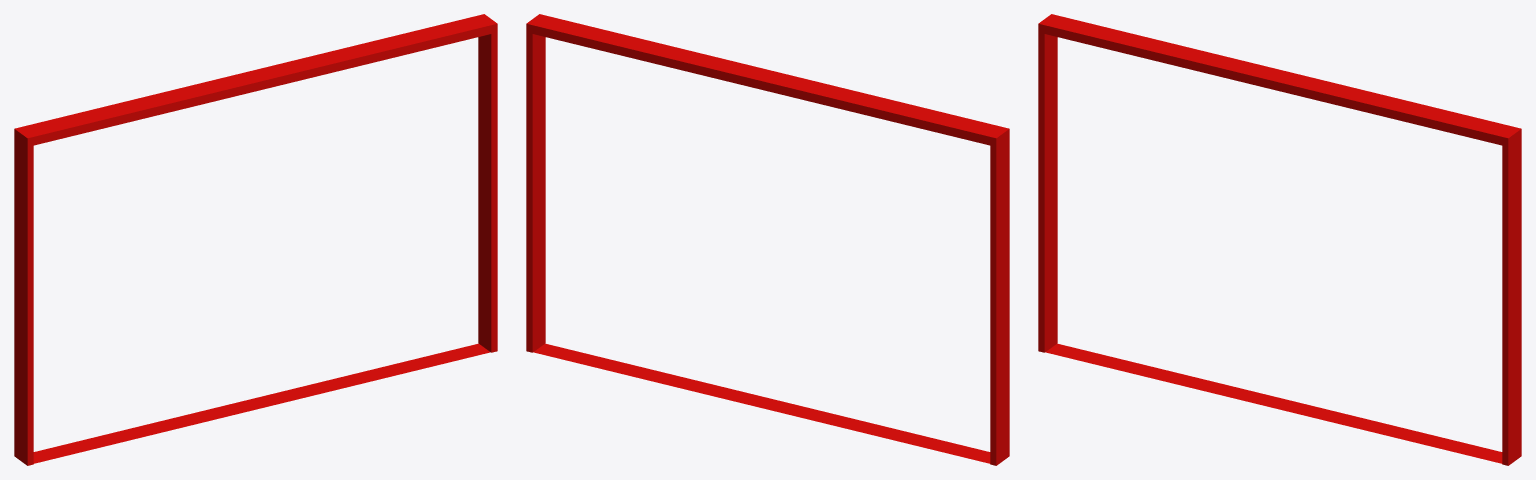
File: HallEdge.fbx
3 renders of one model, left to right at view 1: azimuth 30°, elevation 25°; view 2: azimuth 150°, elevation 25°; view 3: azimuth 330°, elevation 25°, orthographic.
Parts seen in each view (by area): view 1: HallEdge; view 2: HallEdge; view 3: HallEdge.
Boxes of the visible parts, x1,y1,x2,y2 form: HallEdge: (14,14,497,465); HallEdge: (526,14,1009,465); HallEdge: (1038,14,1521,465).
Bounding box in the file's own units: 450 × 300 × 21.95.
